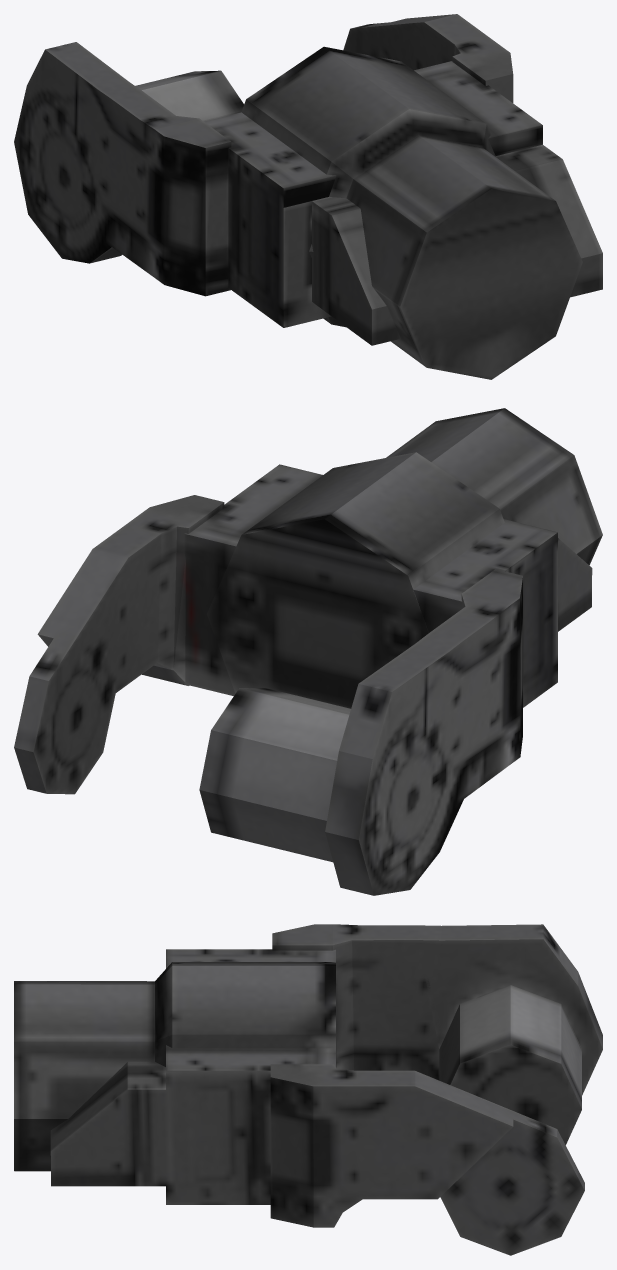
3 renders of one model, top to bottom at view 1: azimuth 30°, elevation 25°; view 2: azimuth 150°, elevation 25°; view 3: azimuth 270°, elevation 25°, orthographic. The views are drawn at different scales.
Parts seen in each view (by area): view 1: drc_r_sh_rx; view 2: drc_r_sh_rx; view 3: drc_r_sh_rx.
Part boxes in pixels (left/top/right/bottom): drc_r_sh_rx: left=14, top=14, right=602, bottom=379; drc_r_sh_rx: left=14, top=408, right=602, bottom=895; drc_r_sh_rx: left=14, top=924, right=602, bottom=1255.
Size of the model in its own units: 0.1458 by 0.2242 by 0.0955.
1 material, 1 textured.
